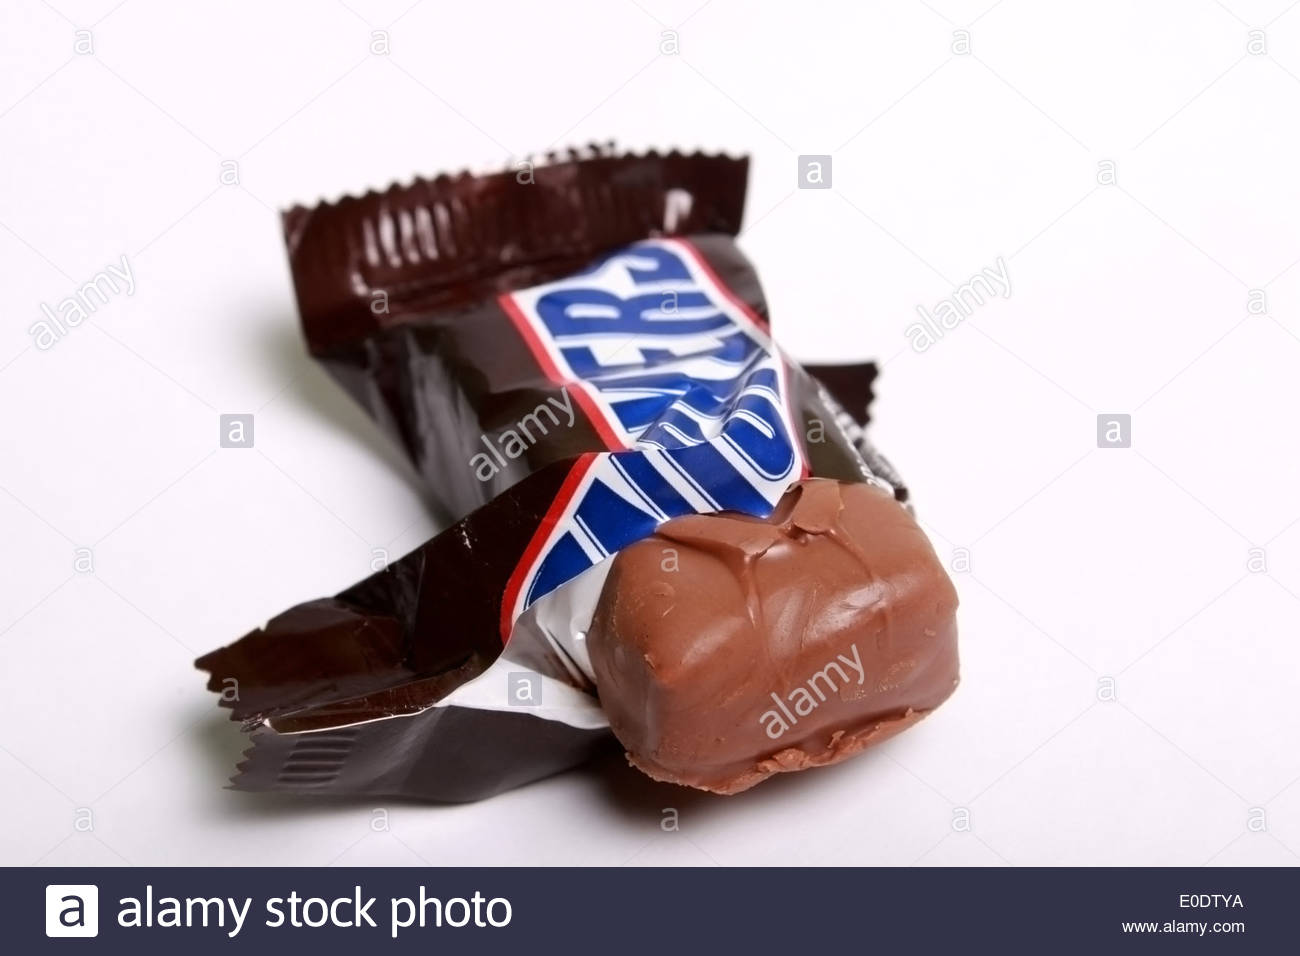snickers: (527, 240, 791, 603), (527, 256, 791, 603)
